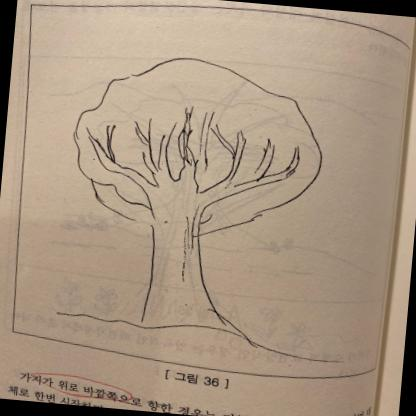branch_cut: (80, 98, 302, 217)
crown_mushroom: (64, 50, 330, 246)
root_none: (120, 304, 266, 358)
trunk_straight: (136, 218, 228, 313)
